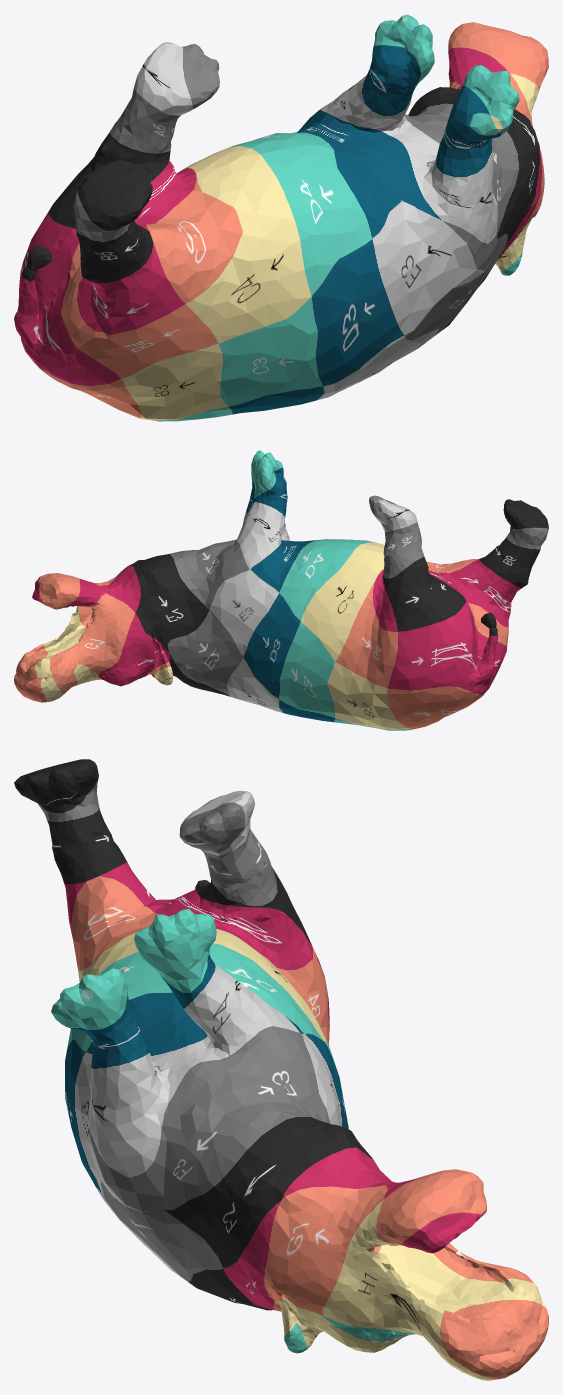
Rendered from horse_09-hippo_02.obj.
The picture shows the model from 3 angles, top to bottom: view 1: azimuth 30°, elevation 25°; view 2: azimuth 150°, elevation 25°; view 3: azimuth 270°, elevation 25°; orthographic projection. The views are drawn at different scales.
Parts seen in each view (by area): view 1: horse_09-hippo_02_export; view 2: horse_09-hippo_02_export; view 3: horse_09-hippo_02_export.
Part boxes in pixels (x1=…): horse_09-hippo_02_export: x1=14, y1=14, x2=548, y2=421; horse_09-hippo_02_export: x1=14, y1=450, x2=548, y2=730; horse_09-hippo_02_export: x1=14, y1=759, x2=548, y2=1380.
Bounding box in the file's own units: 0.8747 × 0.4839 × 0.5882.
